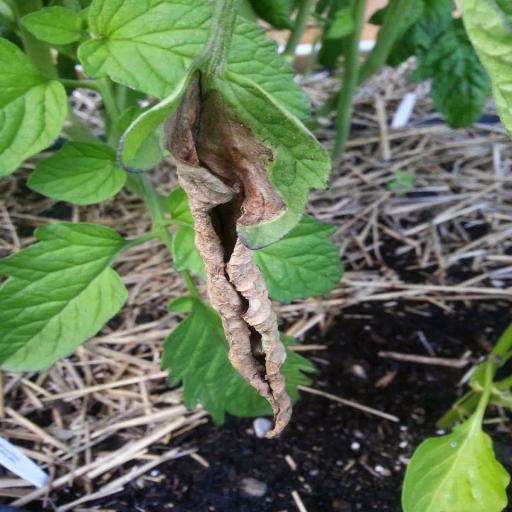disease_tomato: (128, 52, 328, 436)
